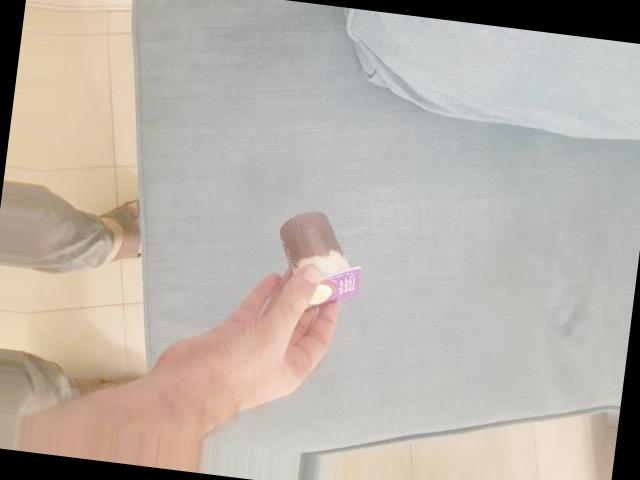milky: (338, 92, 445, 214)
